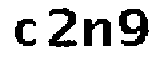2: (44, 5, 79, 52)
9: (116, 6, 150, 52)
c: (14, 18, 39, 48)
n: (82, 14, 114, 52)
